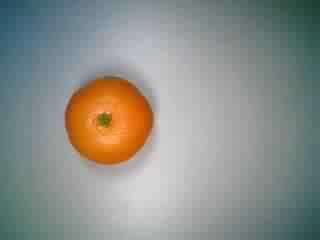orange: (61, 66, 156, 168)
